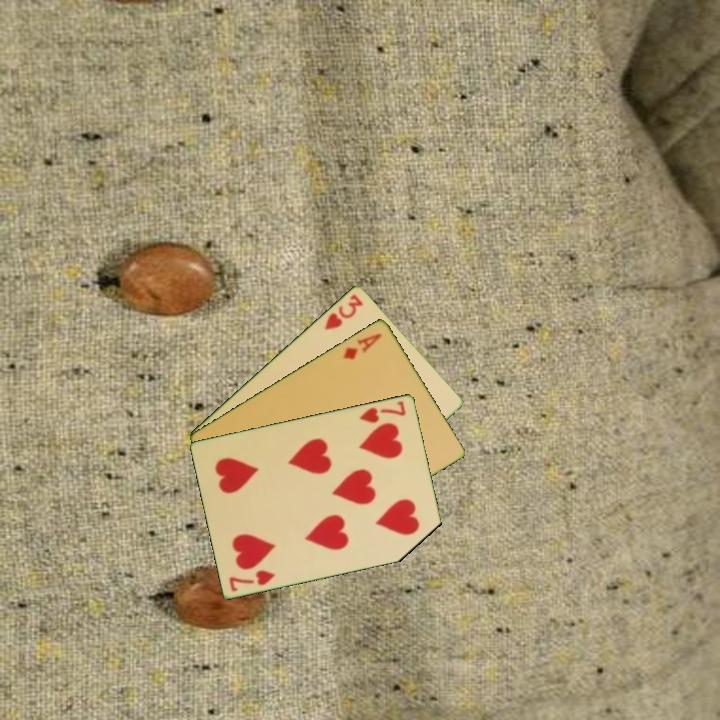3h: (321, 290, 366, 333)
7h: (356, 397, 409, 425), (226, 566, 278, 594)
Ad: (339, 329, 385, 362)
